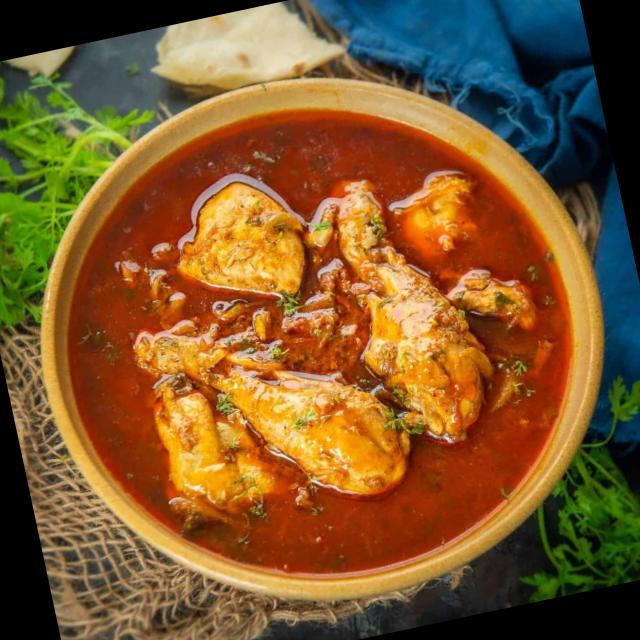chicken: (69, 96, 604, 596)
